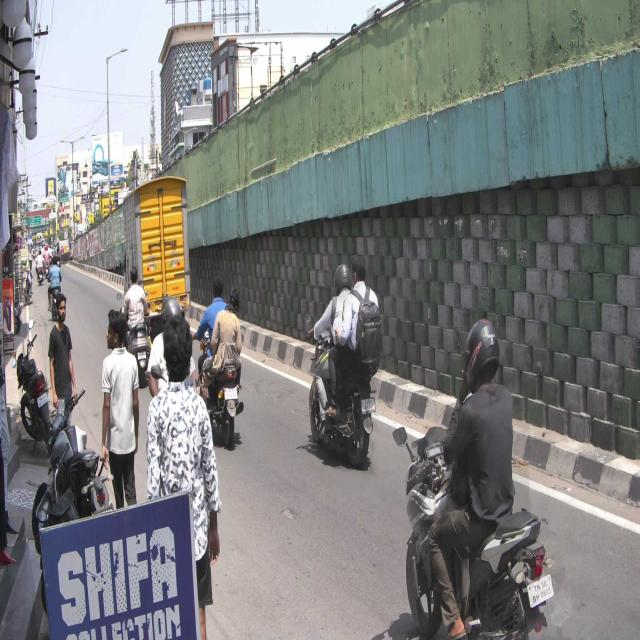double_rider: (302, 254, 382, 464), (194, 273, 245, 450)
single_rider: (402, 316, 555, 640)
